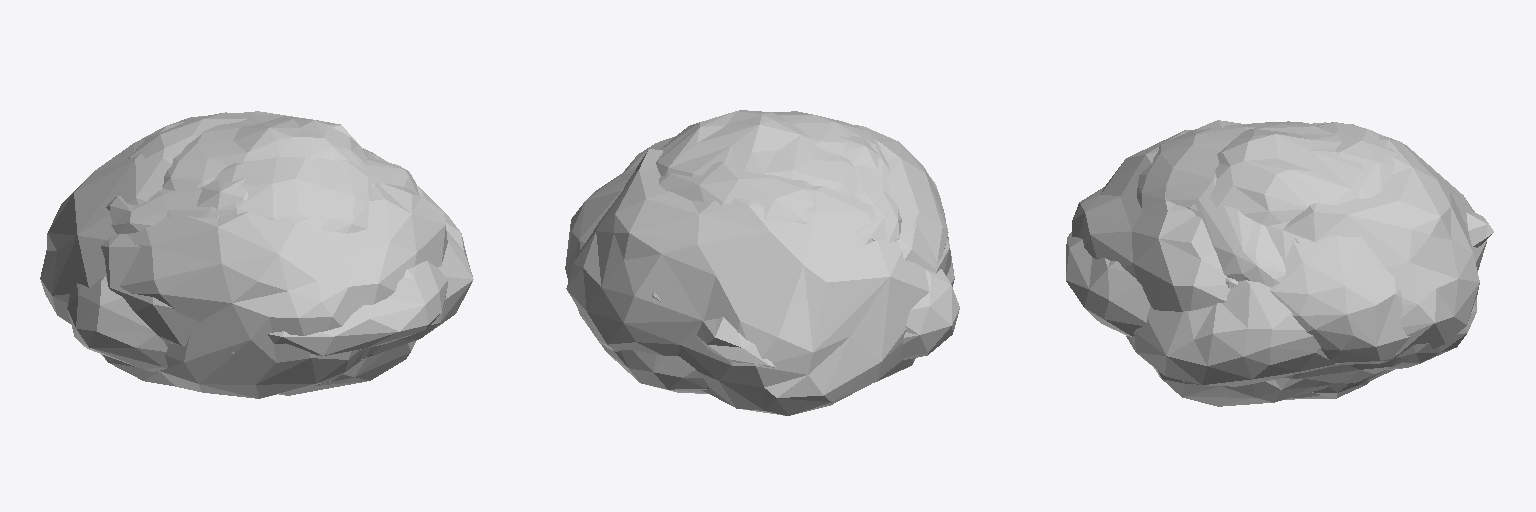
File: asteroid.obj
The picture shows the model from 3 angles: view 1: azimuth 30°, elevation 25°; view 2: azimuth 150°, elevation 25°; view 3: azimuth 270°, elevation 25°; orthographic projection.
Parts seen in each view (by area): view 1: Asteroid_04, Asteroid_01, Asteroid_10, Asteroid_02, Asteroid_08, Asteroid_09, Asteroid_11, Asteroid_03; view 2: Asteroid_04, Asteroid_11, Asteroid_02, Asteroid_01, Asteroid_10, Asteroid_08, Asteroid_09; view 3: Asteroid_04, Asteroid_11, Asteroid_10, Asteroid_02, Asteroid_01, Asteroid_08, Asteroid_03.
Part boxes in pixels (x1,y1,x2,y2): Asteroid_04: (40,111,447,398); Asteroid_01: (106,156,418,233); Asteroid_10: (67,186,473,371); Asteroid_02: (162,114,378,190); Asteroid_08: (268,261,447,355); Asteroid_09: (101,194,423,359); Asteroid_11: (128,112,386,217); Asteroid_03: (279,340,416,395); Asteroid_04: (566,124,954,415); Asteroid_11: (565,136,886,393); Asteroid_02: (656,110,857,193); Asteroid_01: (624,111,901,244); Asteroid_10: (652,269,959,359); Asteroid_08: (697,317,775,367); Asteroid_09: (898,223,950,275); Asteroid_04: (1072,122,1486,383); Asteroid_11: (1195,120,1476,369); Asteroid_10: (1126,239,1469,386); Asteroid_02: (1187,121,1394,397); Asteroid_01: (1137,124,1369,399); Asteroid_08: (1066,212,1493,336); Asteroid_03: (1154,368,1332,406).
Size of the model in its own units: 1.31 by 0.8721 by 1.33.